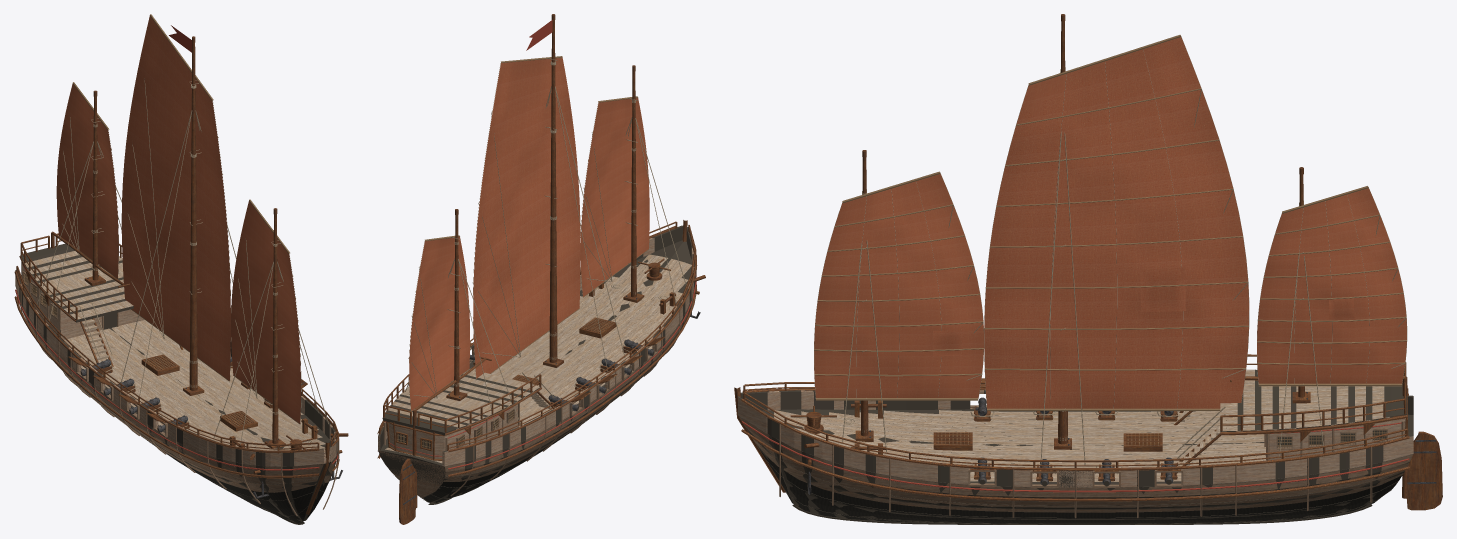
File: fuchuan-lod2.glb
3 views of the same model, side by side, from view 1: azimuth 30°, elevation 25°; view 2: azimuth 150°, elevation 25°; view 3: azimuth 270°, elevation 25° (orthographic). The views are drawn at different scales.
Parts seen in each view (by area): view 1: sail_1, deck, hull, sail_0, sail_2, shadow_hull, deck_fittings, bulwark_rails, mast_timber_1, shadow_deck, sterncastle, mast_timber_0 (+6 smaller); view 2: sail_1, deck, sail_0, hull, sail_2, shadow_hull, deck_fittings, bulwark_rails, mast_timber_1, shadow_deck, mast_timber_0, stern_transom (+7 smaller); view 3: sail_1, hull, sail_0, sail_2, deck, shadow_hull, deck_fittings, bulwark_rails, shadow_deck, rudder_blade, sterncastle, rigging_1.
Boxes of the visible parts, x1,y1,x2,y2 form: sail_1: (121,14,231,381); deck: (19,251,325,450); hull: (14,270,339,524); sail_0: (231,199,301,424); sail_2: (56,82,118,278); shadow_hull: (15,270,337,522); deck_fittings: (21,262,348,498); bulwark_rails: (16,233,338,453); mast_timber_1: (189,43,197,390); shadow_deck: (21,243,133,322); sterncastle: (23,266,144,339); mast_timber_0: (272,214,278,443); sail_1: (472,56,580,378); deck: (382,254,691,463); sail_0: (580,96,649,297); hull: (377,220,697,504); sail_2: (408,235,469,411); shadow_hull: (378,225,695,502); deck_fittings: (383,258,705,460); bulwark_rails: (379,221,695,450); mast_timber_1: (549,20,557,362); shadow_deck: (383,374,540,435); mast_timber_0: (631,71,636,297); stern_transom: (388,422,444,458); sail_1: (984,35,1249,411); hull: (734,387,1413,524); sail_0: (814,171,984,400); sail_2: (1257,186,1407,386); deck: (774,369,1407,481); shadow_hull: (738,390,1413,523); deck_fittings: (790,385,1407,494); bulwark_rails: (743,354,1408,467); shadow_deck: (1220,369,1407,432); rudder_blade: (1406,431,1442,510); sterncastle: (1266,418,1404,460); rigging_1: (1040,132,1085,465).
Bounding box in the file's own units: 10.4 × 26.66 × 33.57.
Materials: 13 (8 with a texture image).
